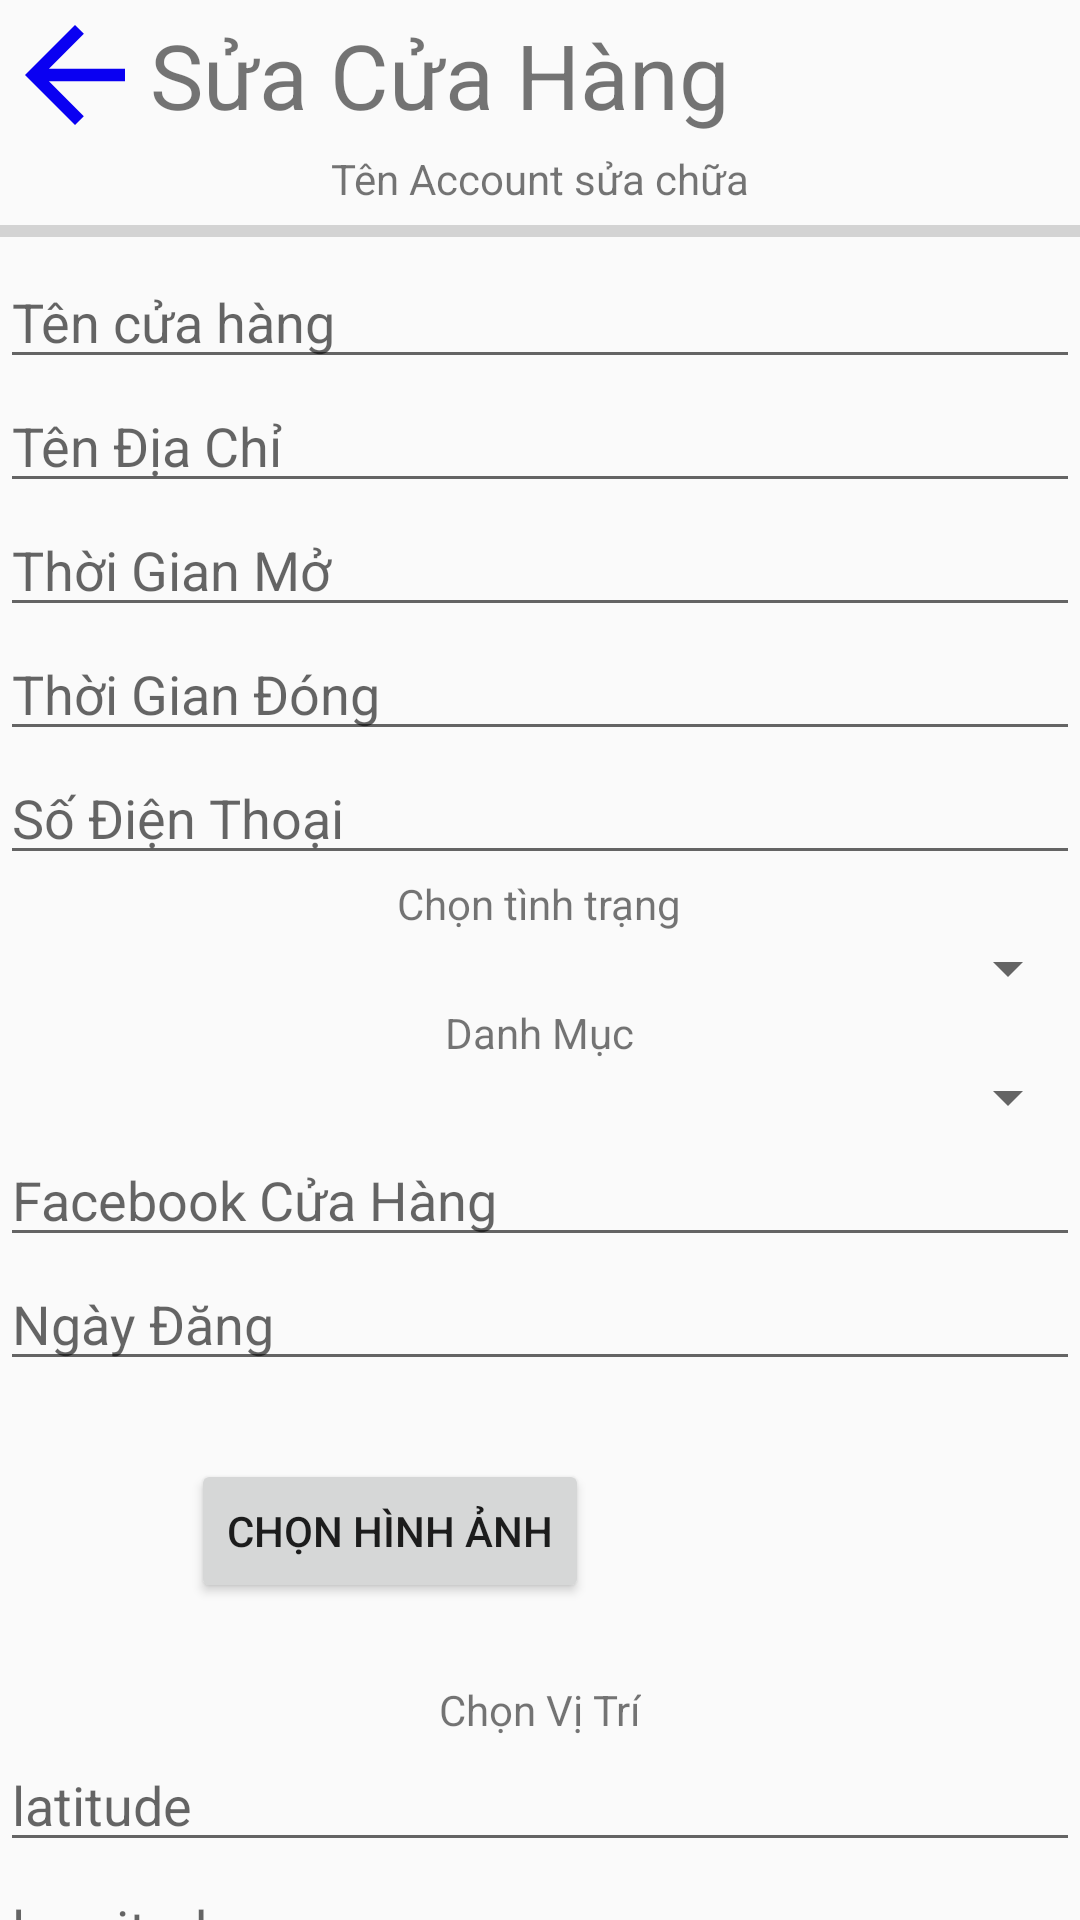

Icon click points for this 1080*1920 phone screenshot, format (x=x, y=y):
arrow back: (x=75, y=75)
